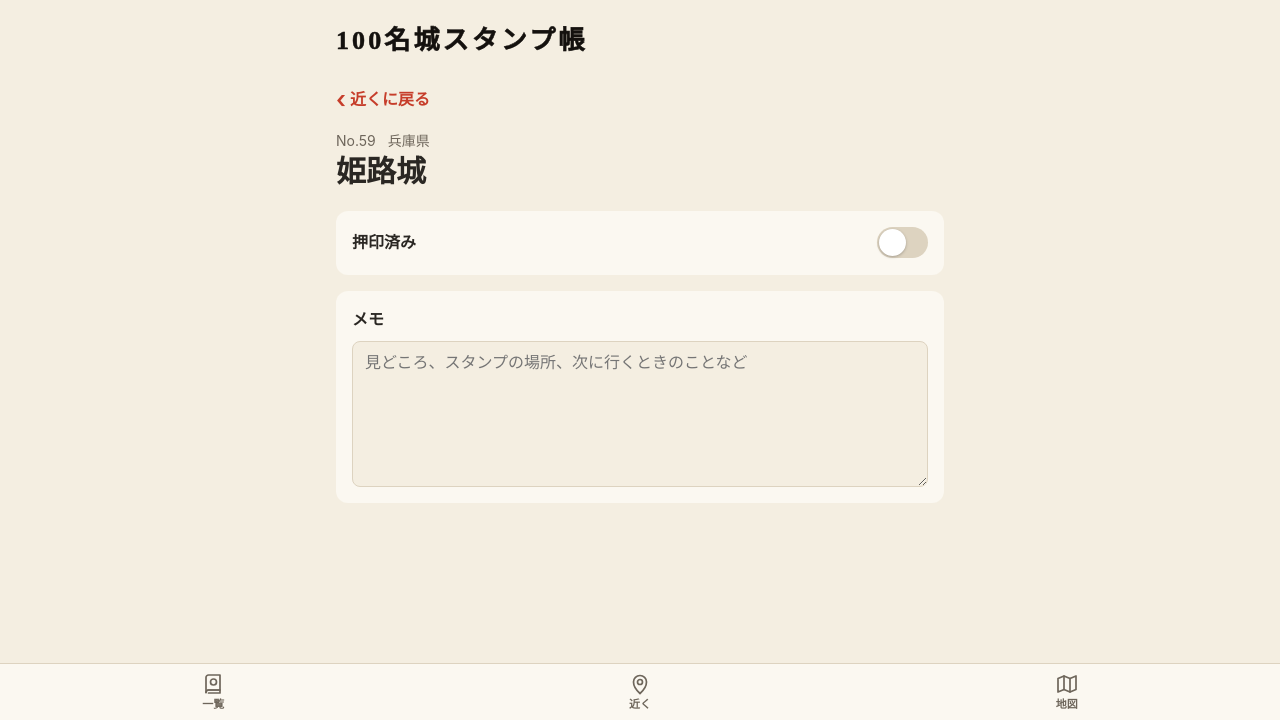
Test case: App › 画面の切り替え › /nearby から開いた詳細画面は「戻る」でその画面に戻る
Click the link "近くに戻る" at {"x": 383, "y": 100}, box x1=336 y1=78 x2=430 y2=122
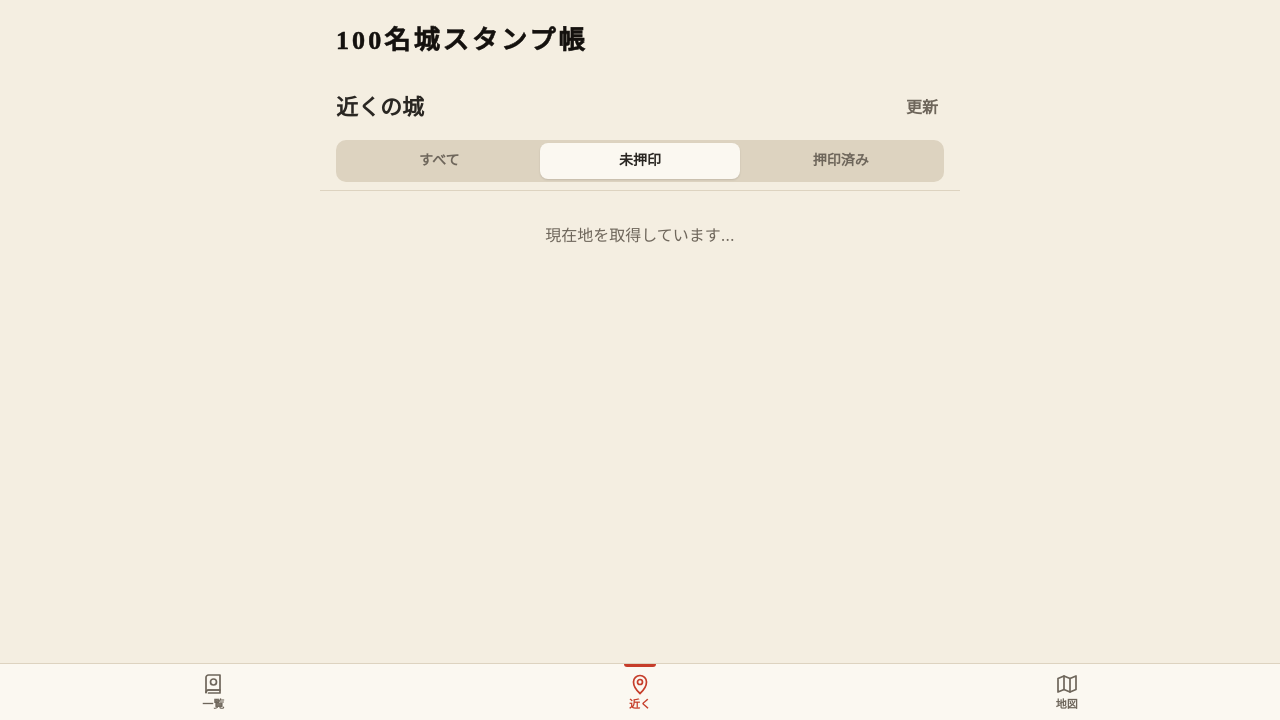
Check: the heading "近くの城" is shown, box x1=336 y1=90 x2=424 y2=125
